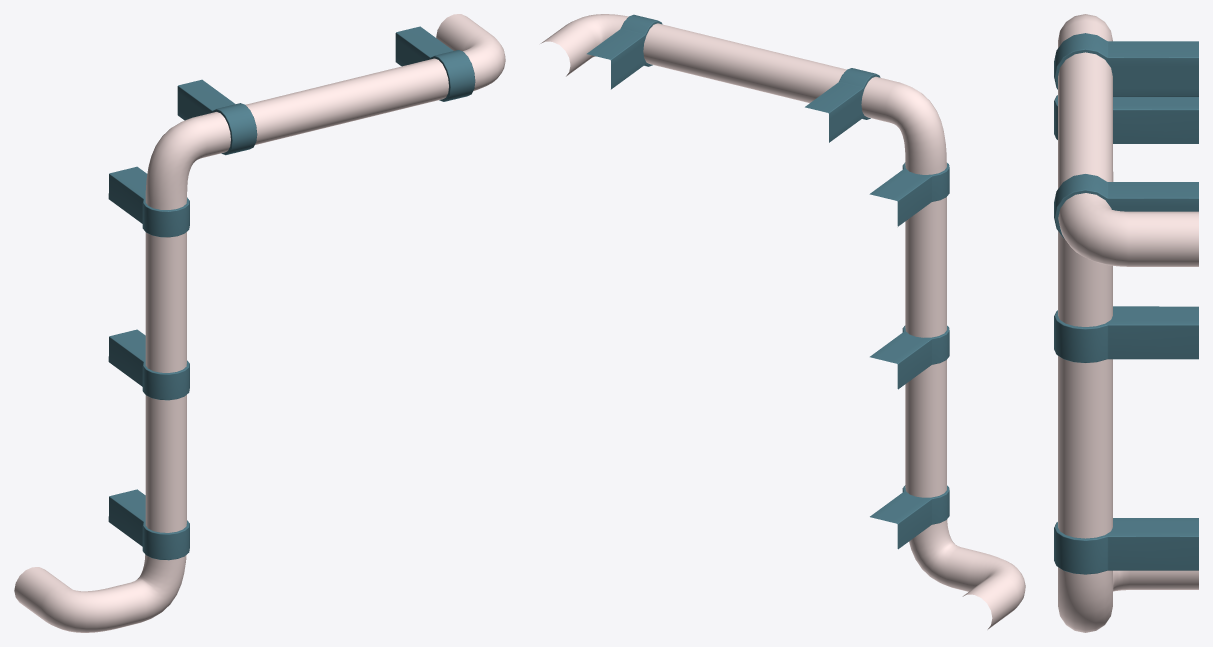
Rendered from City_13_Pipe_2.glb.
The picture shows the model from 3 angles, left to right: view 1: azimuth 30°, elevation 25°; view 2: azimuth 150°, elevation 25°; view 3: azimuth 270°, elevation 25°; orthographic projection. The views are drawn at different scales.
Parts seen in each view (by area): view 1: City_13_Pipe_2; view 2: City_13_Pipe_2; view 3: City_13_Pipe_2.
Part boxes in pixels (<box>): City_13_Pipe_2: <box>14,14,505,632</box>; City_13_Pipe_2: <box>540,14,1025,629</box>; City_13_Pipe_2: <box>1054,14,1198,632</box>.
Bounding box in the file's own units: 4.71 × 4.82 × 0.9758.
Materials: 1 (1 with a texture image).
